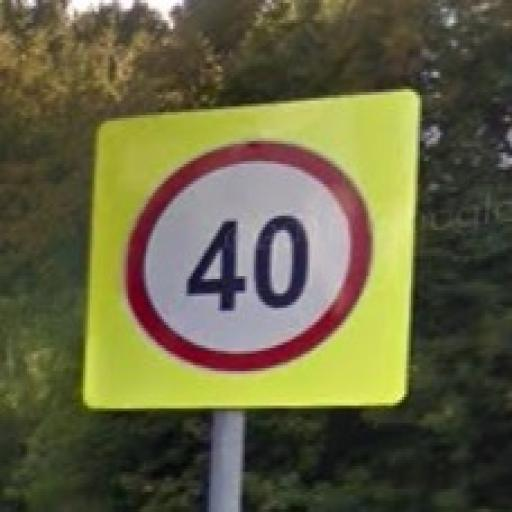traffic_sign: (125, 139, 376, 372)
